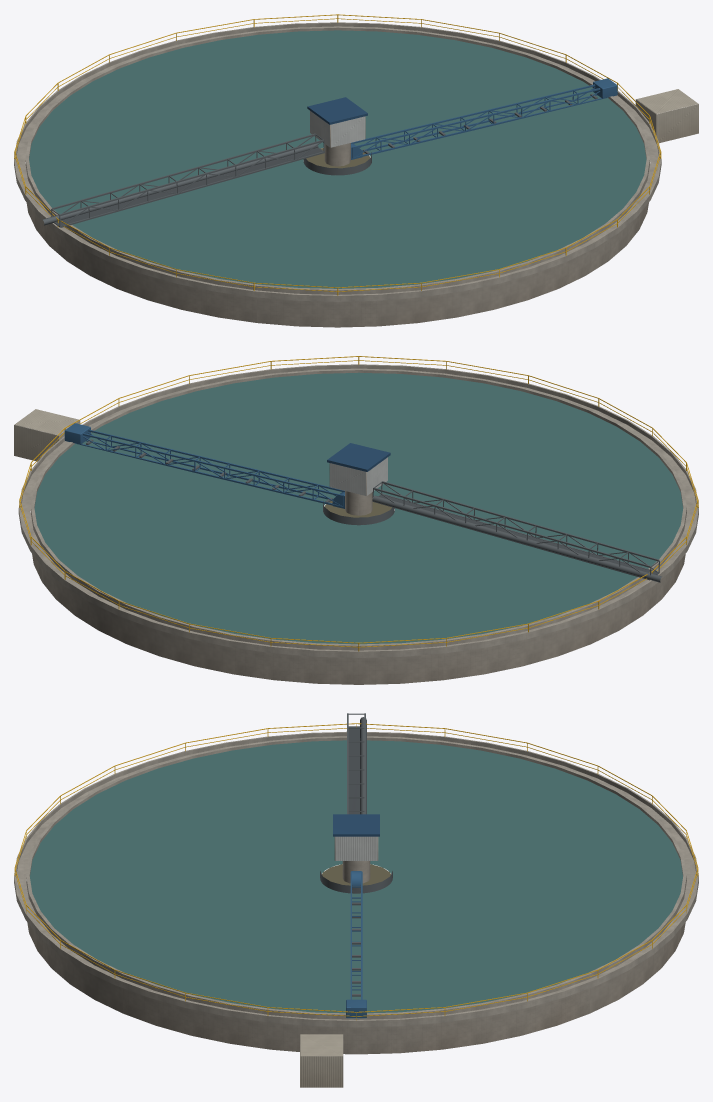
Rendered from thickener_tailings_lod0.glb.
The picture shows the model from 3 angles, top to bottom: view 1: azimuth 30°, elevation 25°; view 2: azimuth 150°, elevation 25°; view 3: azimuth 270°, elevation 25°; orthographic projection. The views are drawn at different scales.
Visible parts, largest first — view 1: water, tank, rake; view 2: water, tank, rake; view 3: water, tank, rake.
Part boxes in pixels (x1=…): water: x1=29, y1=30, x2=646, y2=288; tank: x1=14, y1=14, x2=698, y2=327; rake: x1=351, y1=78, x2=617, y2=159; water: x1=34, y1=372, x2=683, y2=644; tank: x1=14, y1=356, x2=698, y2=684; rake: x1=64, y1=423, x2=344, y2=508; water: x1=30, y1=740, x2=682, y2=1013; tank: x1=14, y1=713, x2=698, y2=1087; rake: x1=346, y1=871, x2=366, y2=1018.
Bounding box in the file's own units: 88.01 × 11.5 × 78.8.
Materials: 10 (3 with a texture image).
